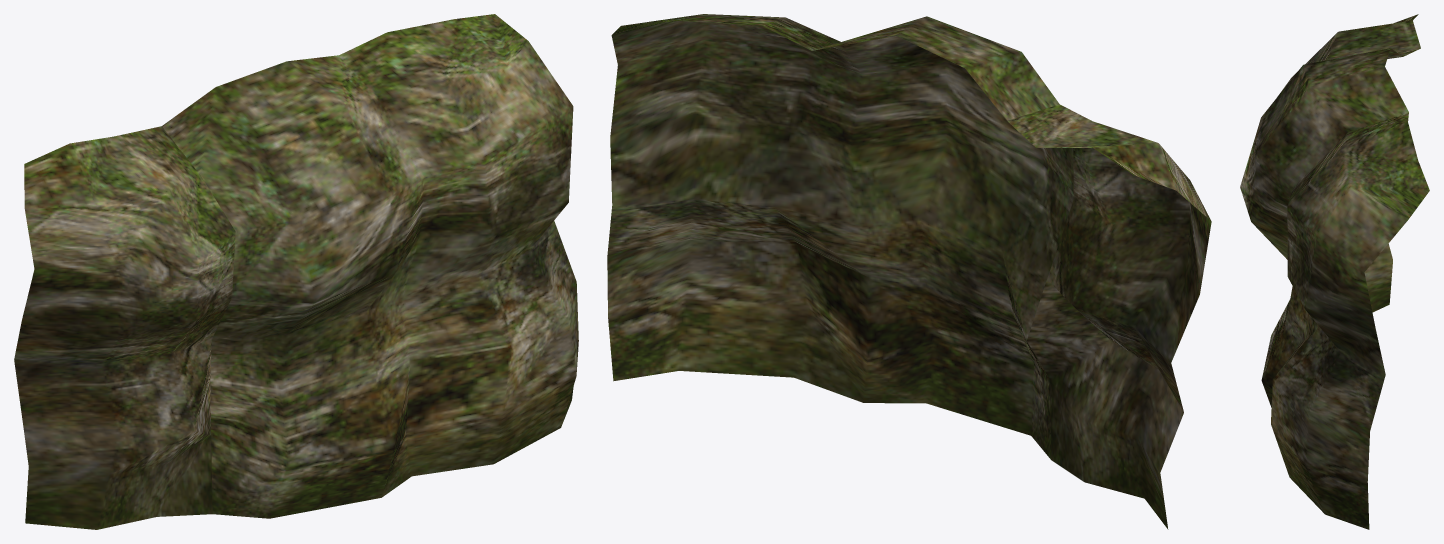
The picture shows the model from 3 angles, left to right: view 1: azimuth 30°, elevation 25°; view 2: azimuth 150°, elevation 25°; view 3: azimuth 270°, elevation 25°; orthographic projection. The views are drawn at different scales.
Visible parts, largest first — view 1: SMDImport; view 2: SMDImport; view 3: SMDImport.
Part boxes in pixels (x1,y1,x2,y2): SMDImport: (14,14,578,529); SMDImport: (607,14,1211,529); SMDImport: (1240,14,1429,529).
Size of the model in its own units: 424 by 291 by 144.
